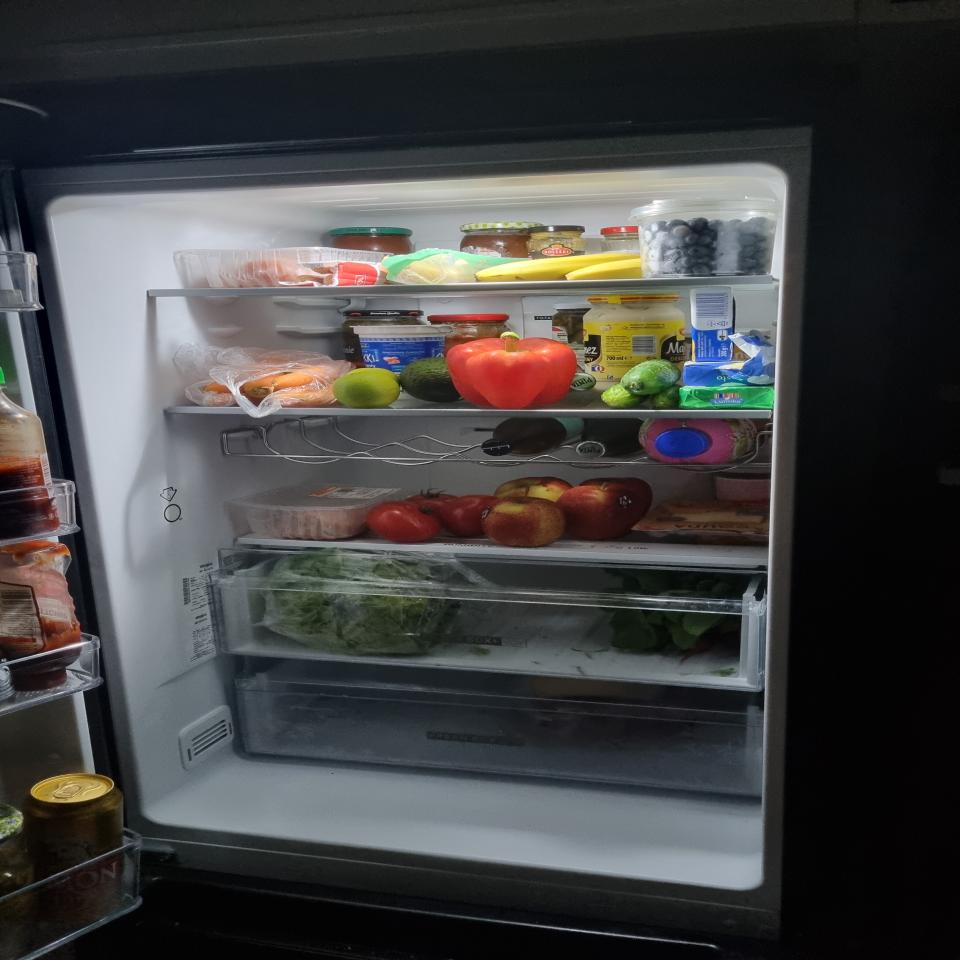Aguacate: (404, 358, 456, 400)
Carne pollo: (241, 480, 408, 540), (220, 259, 336, 287)
Lechuga/Endivia: (261, 548, 461, 655)
Mantequilla: (689, 286, 736, 362), (687, 360, 779, 388), (679, 386, 777, 411)
Manzana: (483, 498, 567, 549), (566, 486, 638, 539), (499, 476, 570, 502)
Pepino: (626, 358, 674, 393), (604, 384, 647, 408)
Plátano: (479, 252, 649, 281)
Queso: (649, 496, 772, 544)
Tomate: (370, 503, 438, 541), (440, 494, 501, 535), (410, 493, 456, 512)
Yogur: (350, 324, 449, 369)
Zanahoria: (195, 356, 343, 408)
bell pepper: (447, 331, 572, 407)
blueberries: (645, 212, 776, 277)
ketchup: (0, 539, 86, 691)
lime: (337, 367, 399, 408)
mayonnaise: (583, 293, 689, 377)
mustard: (526, 225, 586, 260)
